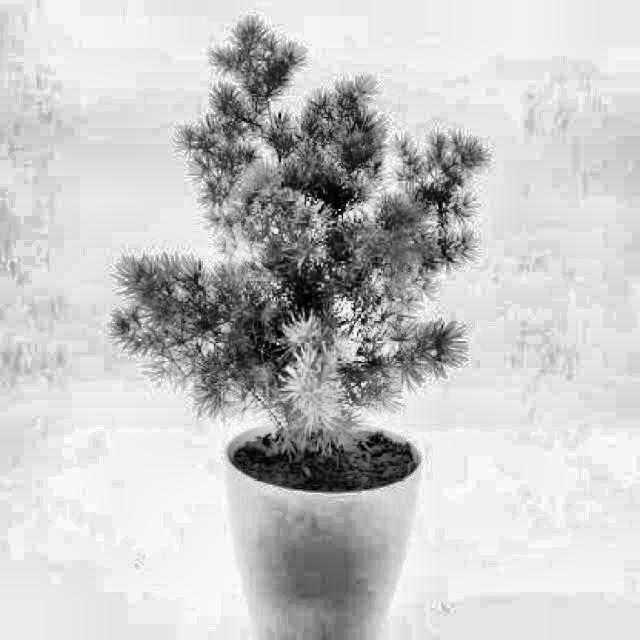plants: (215, 28, 418, 626)
